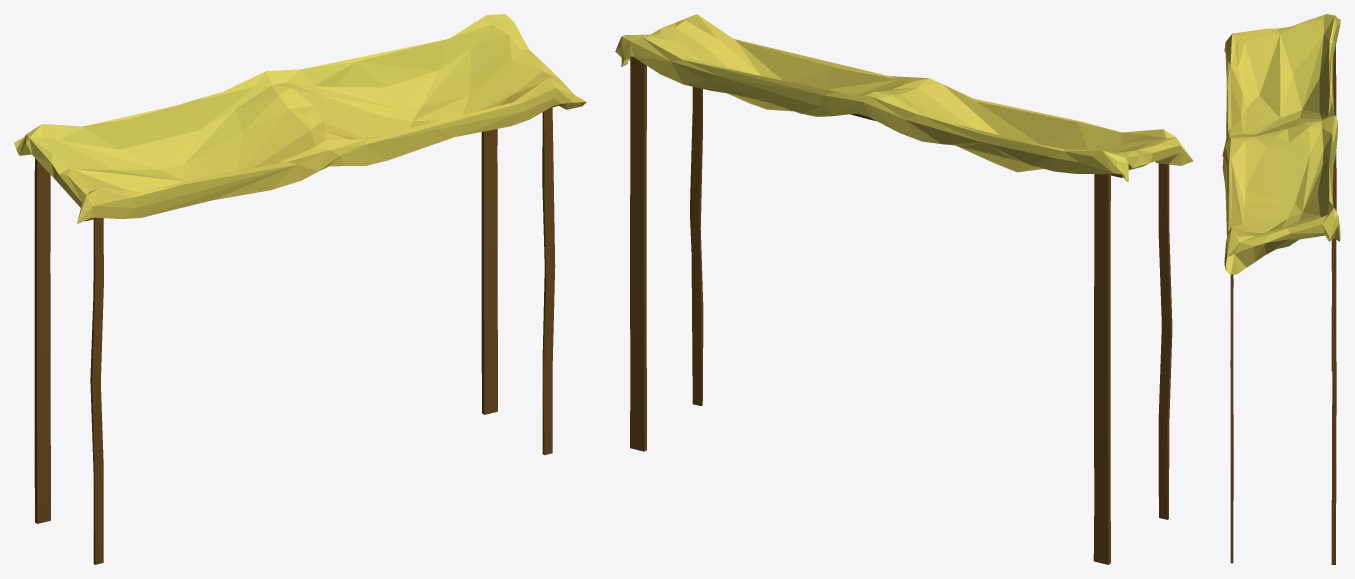
Rendered from MarketRoofYellow.fbx.
The picture shows the model from 3 angles, left to right: view 1: azimuth 30°, elevation 25°; view 2: azimuth 150°, elevation 25°; view 3: azimuth 270°, elevation 25°; orthographic projection. The views are drawn at different scales.
Parts seen in each view (by area): view 1: MarketRoofYellow; view 2: MarketRoofYellow; view 3: MarketRoofYellow.
Boxes of the visible parts, x1,y1,x2,y2 form: MarketRoofYellow: [14, 14, 586, 564]; MarketRoofYellow: [615, 14, 1193, 564]; MarketRoofYellow: [1222, 14, 1340, 564].
Bounding box in the file's own units: 272 × 203 × 61.62.
